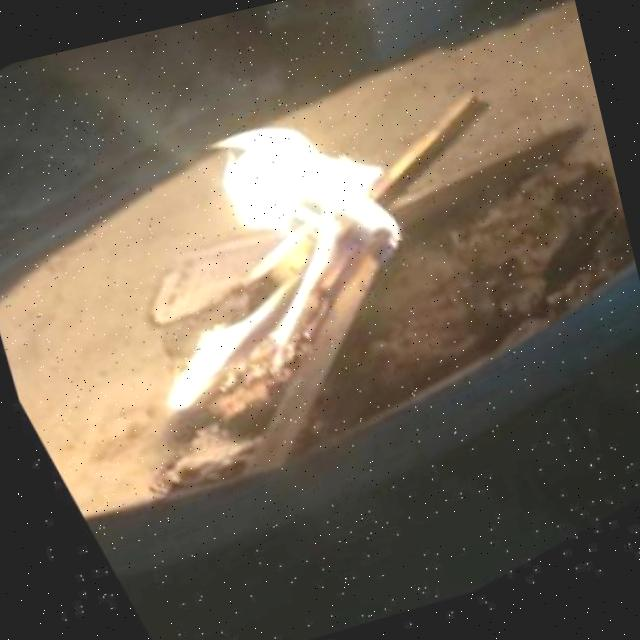fire: (105, 87, 432, 425)
